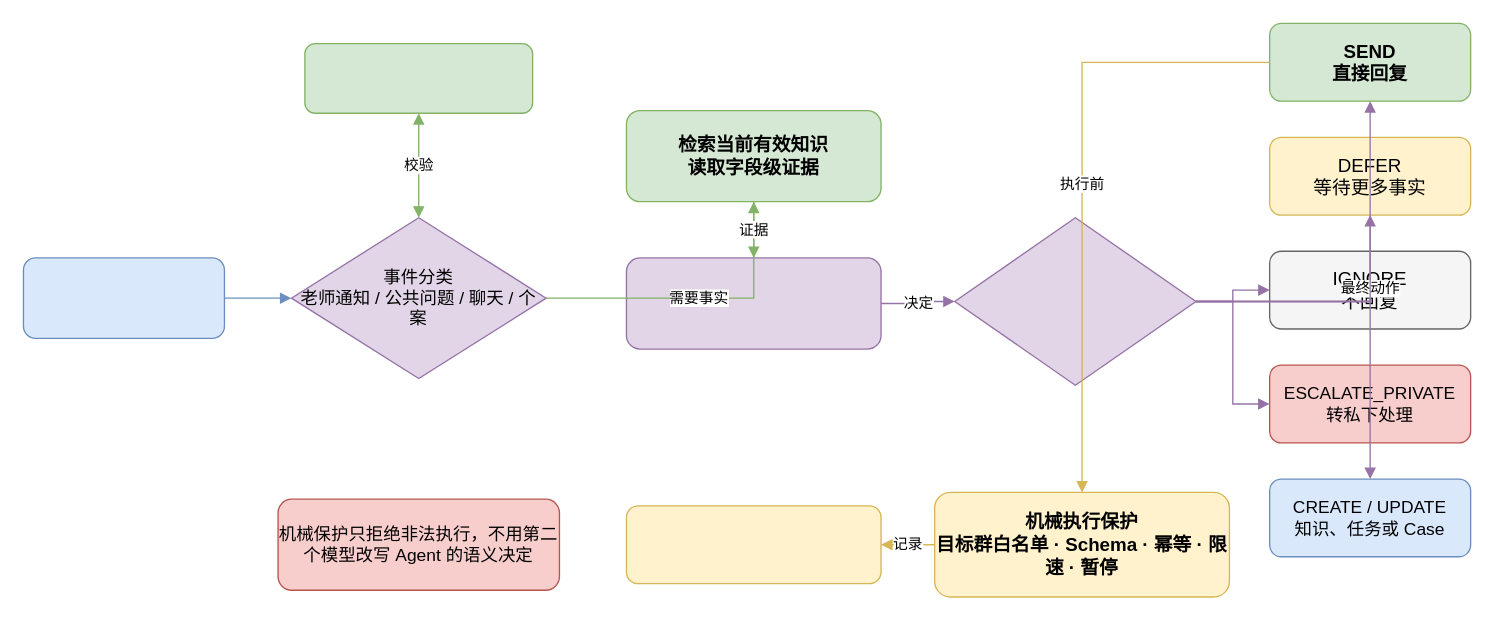
The diagram is 1494 pixels wide and 620 high, and some of its shapes have lost their labels. Here are the shapes that lost their labels. From the top down, the centre of each, then its label:
the point at 418,77: 身份与群权限工具
the point at 123,297: 不可信消息输入
the point at 753,303: Qwen + Skills 形成语义决定与回复内容
the point at 1074,300: 每个事件最多一个最终动作
the point at 753,544: Outbox / 审计轨迹
